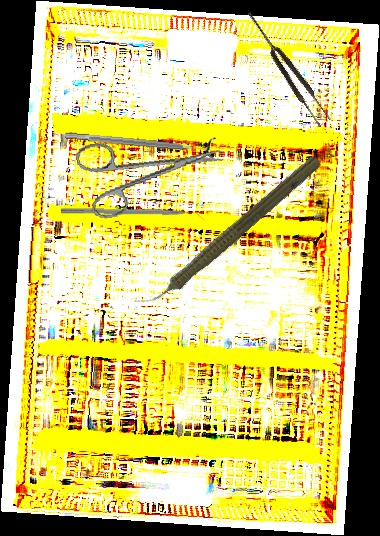Chopper: (60, 207, 206, 224)
Fixation Ring: (64, 123, 216, 160)
Handpiece: (132, 147, 325, 321)
Iris Scissors: (74, 119, 231, 223)
Tissue Forceps: (242, 7, 333, 129)
